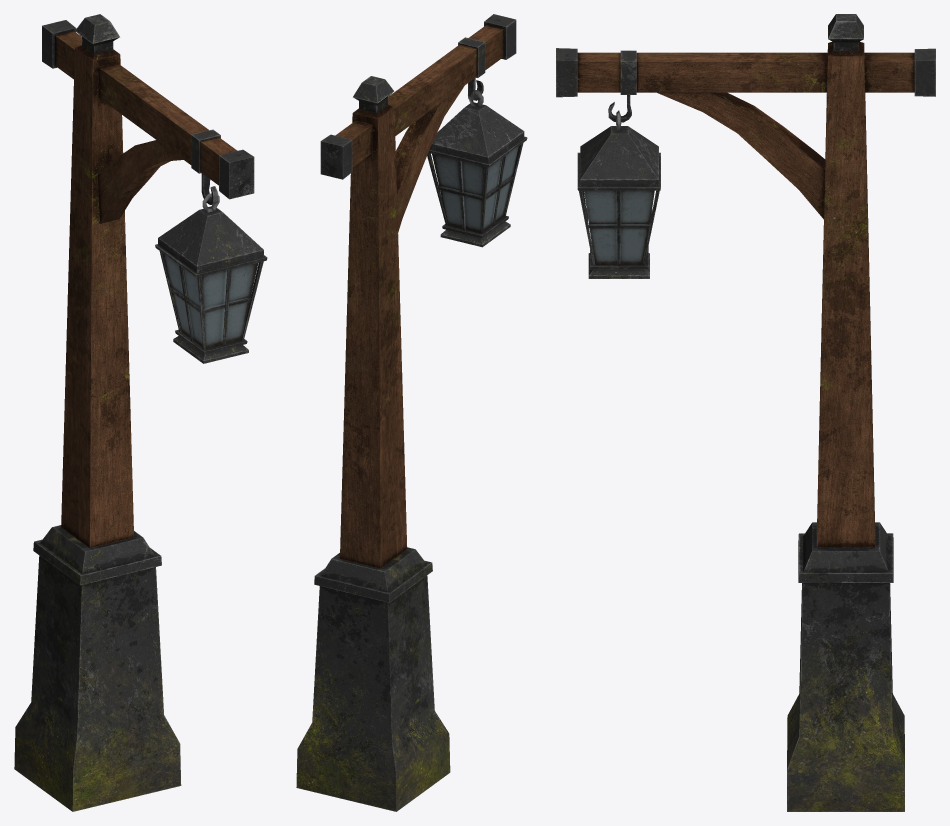
File: lamparaMed.obj
The picture shows the model from 3 angles, left to right: view 1: azimuth 30°, elevation 25°; view 2: azimuth 150°, elevation 25°; view 3: azimuth 270°, elevation 25°; orthographic projection. The views are drawn at different scales.
Parts seen in each view (by area): view 1: E9_Lamp_meshId0_name; view 2: E9_Lamp_meshId0_name; view 3: E9_Lamp_meshId0_name.
Boxes of the visible parts, box(x1,y1,x2,y2) form: E9_Lamp_meshId0_name: box(14, 14, 267, 811); E9_Lamp_meshId0_name: box(296, 14, 527, 811); E9_Lamp_meshId0_name: box(556, 14, 935, 811).
Bounding box in the file's own units: 1.38 × 9.21 × 4.13.
1 material, 1 textured.
